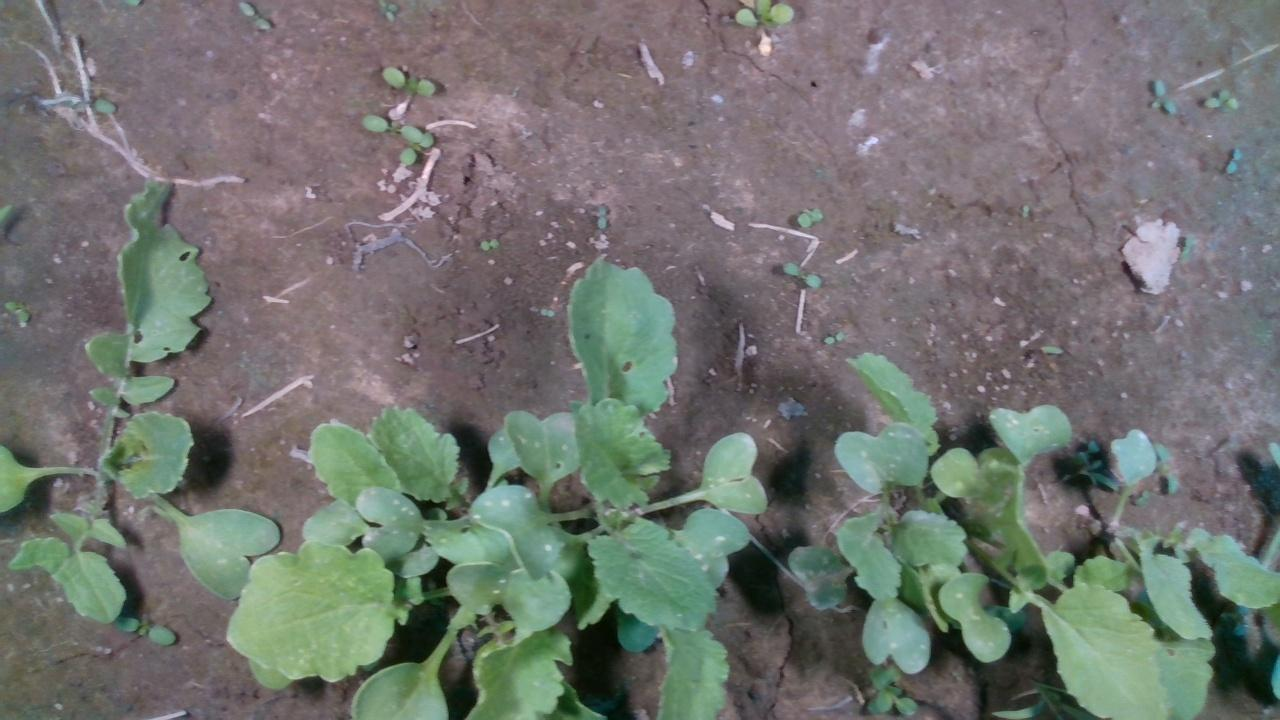weed: (380, 65, 437, 96), (781, 259, 822, 290), (1148, 78, 1178, 118), (236, 0, 271, 29), (1200, 85, 1239, 110), (794, 206, 823, 227), (1224, 144, 1241, 175), (593, 201, 607, 230), (821, 330, 844, 344), (478, 237, 498, 251)
